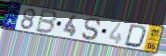4: (107, 22, 124, 46), (62, 14, 78, 39)
8: (19, 7, 38, 31)
B: (34, 8, 59, 36)
D: (123, 24, 148, 49)
S: (80, 17, 102, 42)
